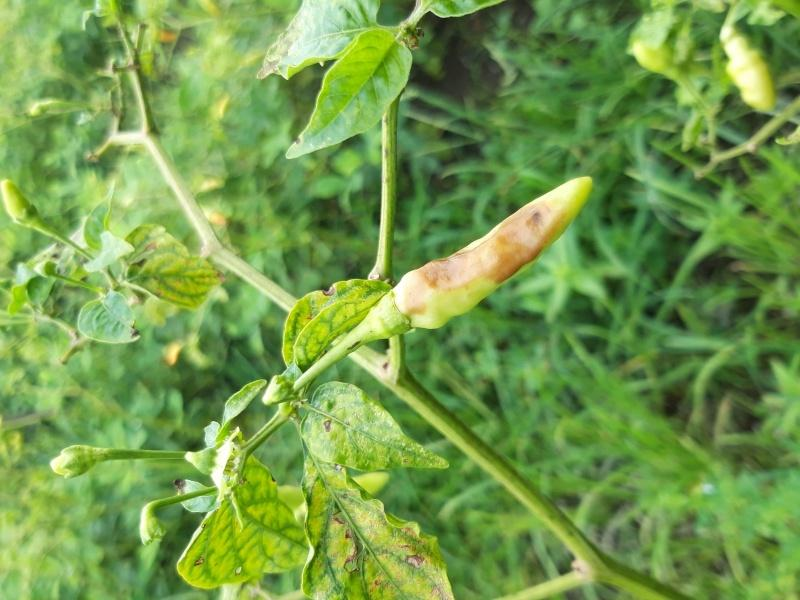cabai_normal: (727, 49, 777, 112)
lalat_buah: (393, 176, 593, 327)
